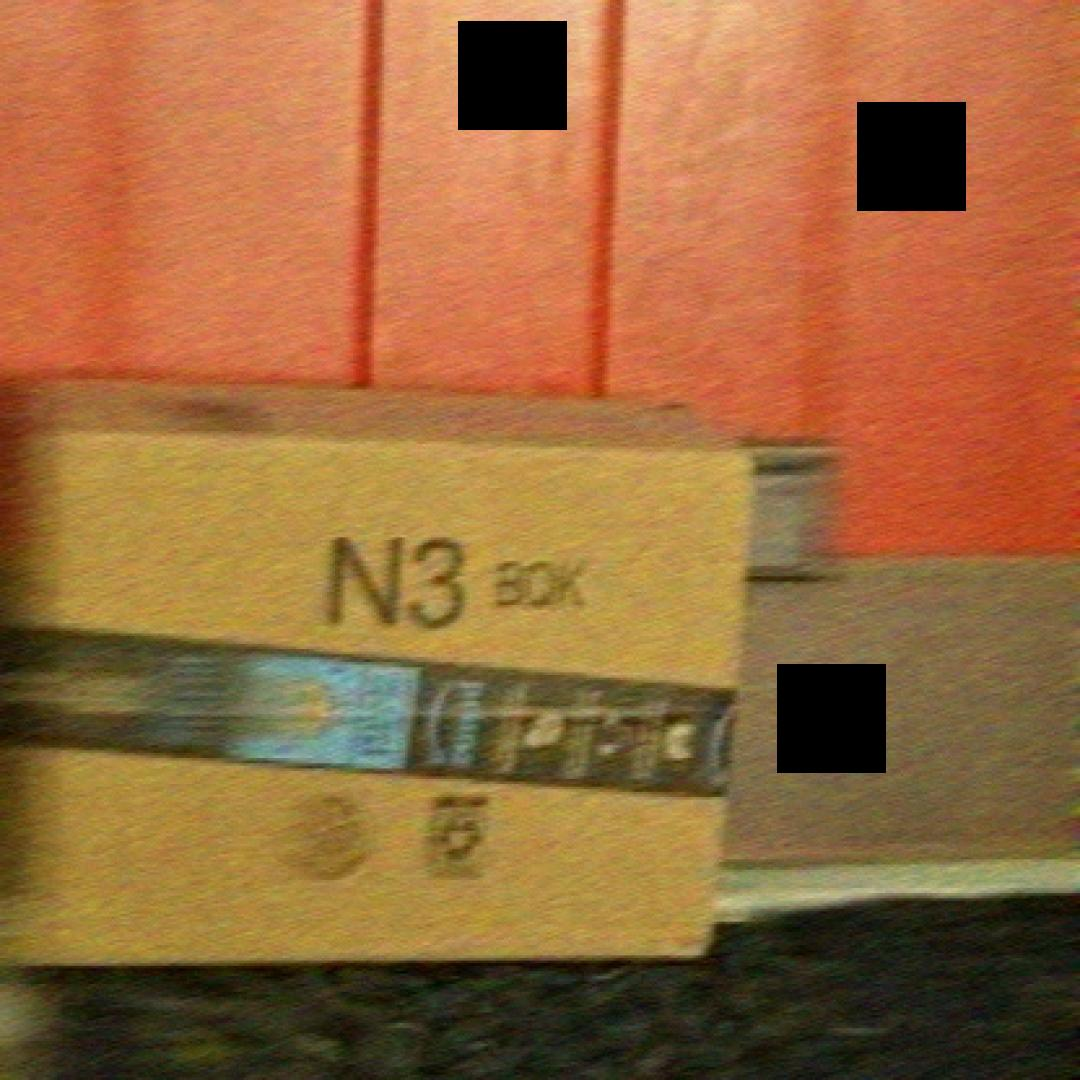package: (13, 368, 766, 968)
